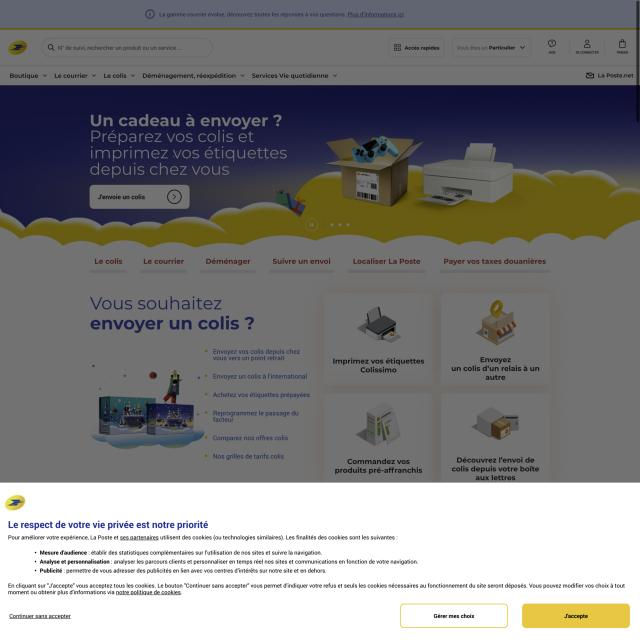CheckBox: (398, 600, 511, 630), (520, 602, 631, 629), (8, 610, 72, 622)
breadcrumbs: (6, 517, 220, 530)
data feed: (431, 608, 477, 622), (561, 609, 590, 621)
date picker: (4, 491, 28, 513)
header: (0, 482, 640, 640)
